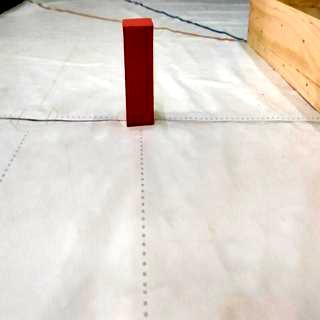redbox: (122, 18, 156, 128)
